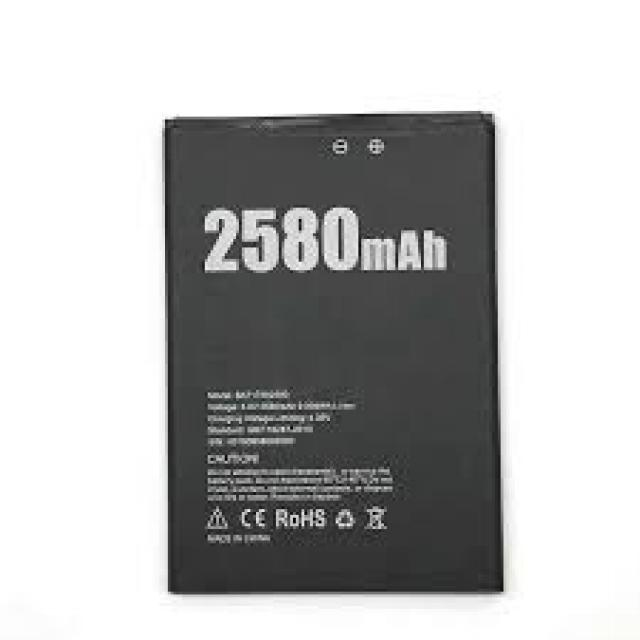non-organic waste: (161, 114, 503, 595)
